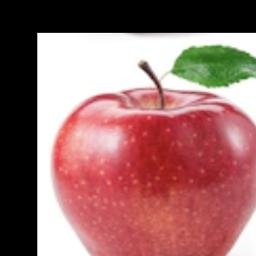Apple Fresh: (24, 32, 235, 256)
